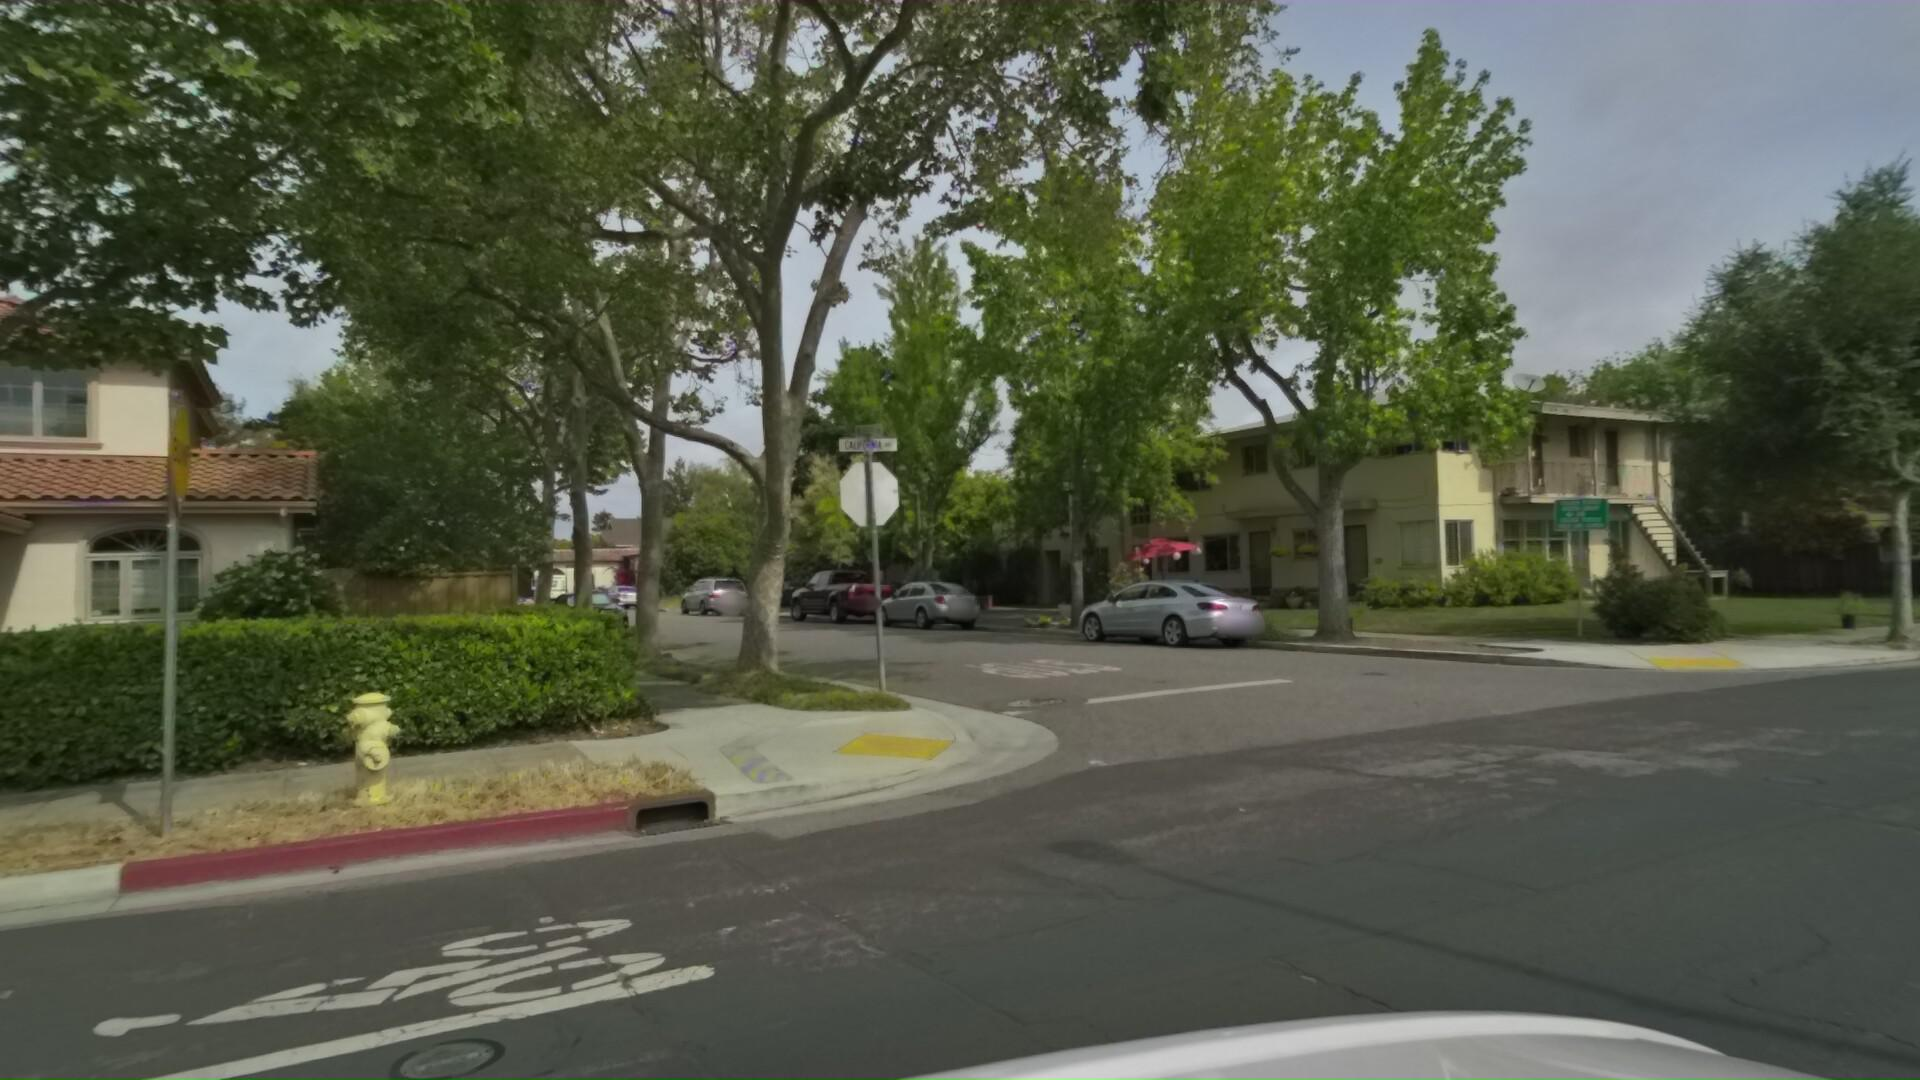car: (1055, 579, 1271, 658), (775, 564, 897, 629), (858, 579, 981, 636), (535, 585, 622, 638), (669, 574, 748, 621), (593, 583, 641, 613)
truck: (521, 570, 570, 604)
